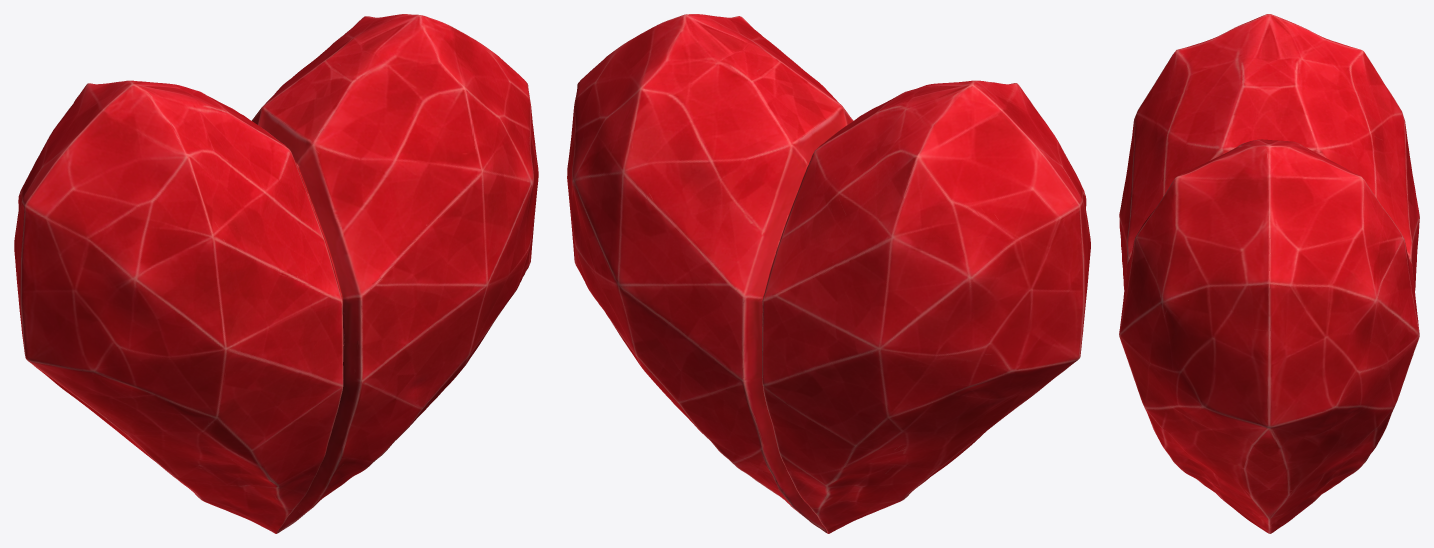
Rendered from bonus_heart_2_ULTRA_50k.fbx.
3 renders of one model, left to right at view 1: azimuth 30°, elevation 25°; view 2: azimuth 150°, elevation 25°; view 3: azimuth 270°, elevation 25°, orthographic. The views are drawn at different scales.
Parts seen in each view (by area): view 1: HIGH; view 2: HIGH; view 3: HIGH.
Boxes of the visible parts, x1,y1,x2,y2 form: HIGH: (14,14,538,533); HIGH: (567,14,1090,533); HIGH: (1119,14,1419,533).
Bounding box in the file's own units: 1.9 × 1.72 × 1.03.
Materials: 1 (1 with a texture image).
